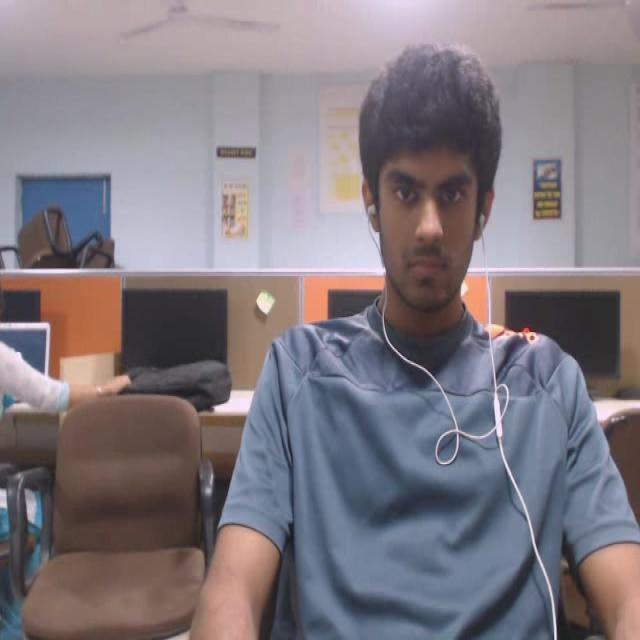Engaged: (325, 32, 532, 372)
